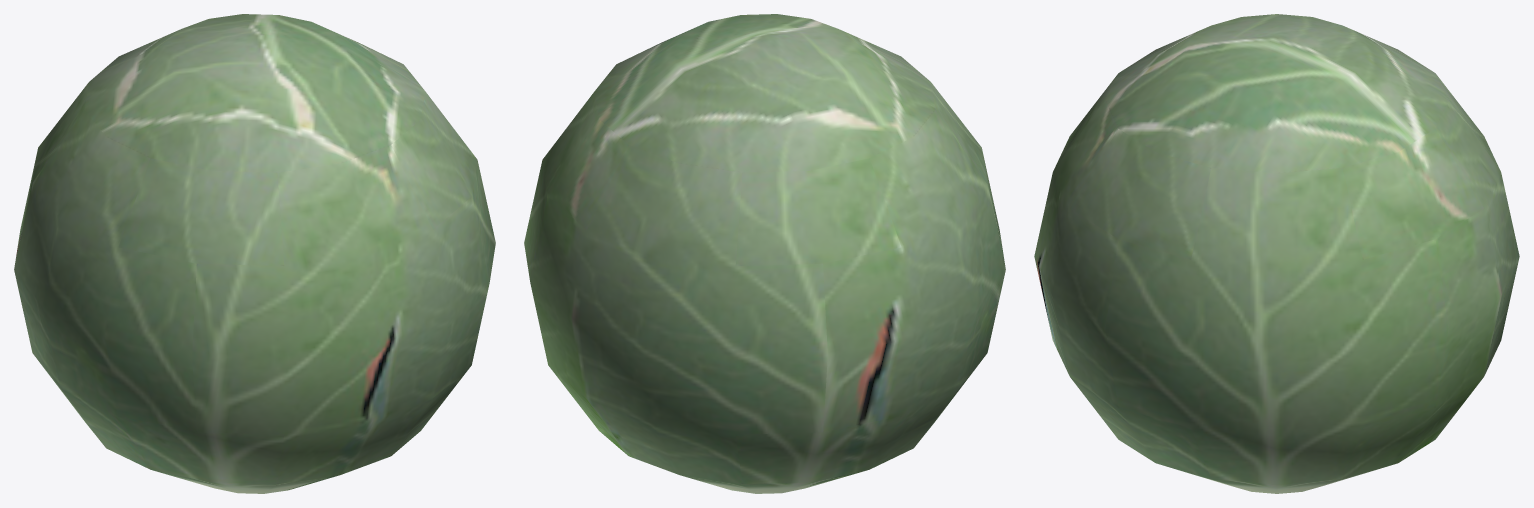
Rendered from SM_配餐室_水果蔬菜_09.fbx.
3 views of the same model, side by side, from view 1: azimuth 30°, elevation 25°; view 2: azimuth 150°, elevation 25°; view 3: azimuth 270°, elevation 25° (orthographic).
Visible parts, largest first — view 1: SM_配餐室_水果蔬菜_09; view 2: SM_配餐室_水果蔬菜_09; view 3: SM_配餐室_水果蔬菜_09.
Part boxes in pixels (x1=…): SM_配餐室_水果蔬菜_09: x1=14, y1=14, x2=495, y2=493; SM_配餐室_水果蔬菜_09: x1=524, y1=14, x2=1005, y2=493; SM_配餐室_水果蔬菜_09: x1=1034, y1=14, x2=1519, y2=493.
Size of the model in its own units: 163 by 159 by 163.
